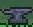anvil: (1, 1, 33, 27)
